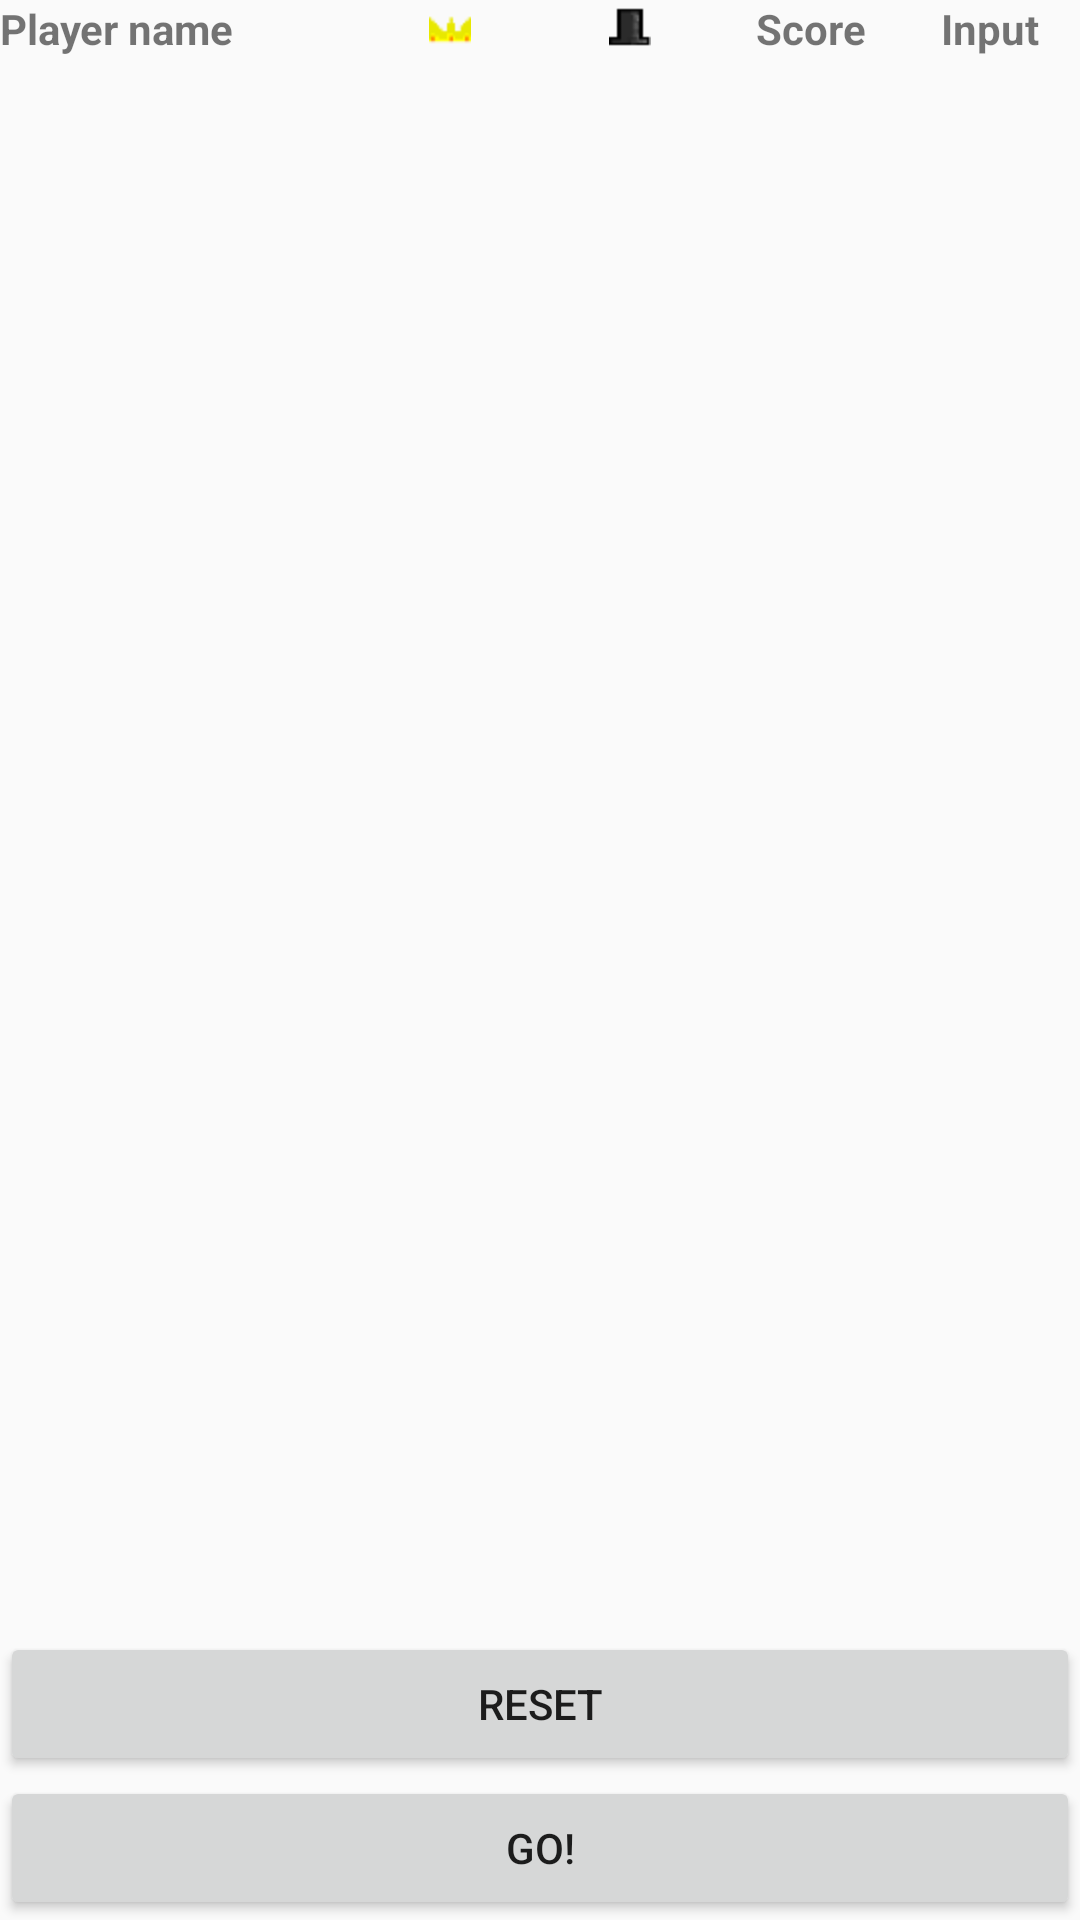

Locate icon controls on the screen. Image size 1080 × 1920, boxes as (x1, y1, x2, y2).
crown: (429, 16, 471, 43)
hat: (609, 8, 651, 46)
